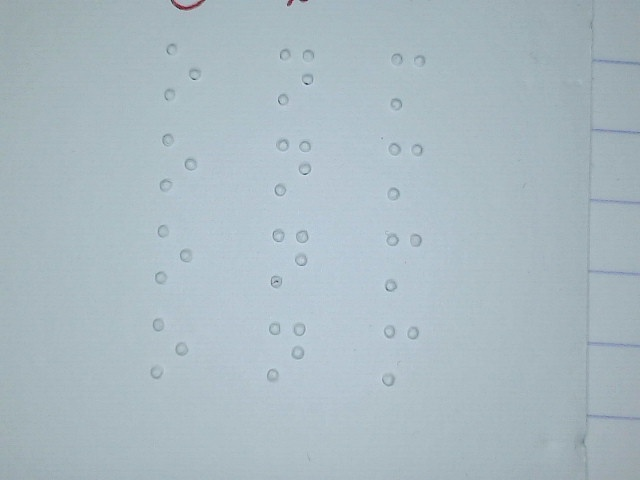M: (381, 323, 422, 386), (388, 51, 427, 111), (385, 141, 424, 201), (384, 231, 423, 291)
N: (277, 46, 316, 106), (274, 138, 313, 198), (270, 227, 309, 287), (267, 321, 306, 381)
O: (153, 223, 195, 284), (148, 316, 190, 377), (163, 42, 202, 102), (159, 132, 198, 192)
